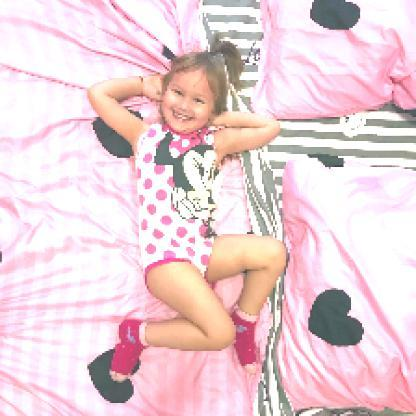child: (86, 42, 289, 404)
